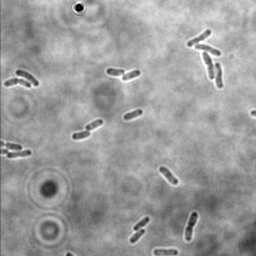Dividing: (184, 211, 199, 242), (3, 76, 32, 89), (6, 148, 33, 160)
Microcolony: (186, 29, 225, 89)
Rod: (14, 69, 39, 88), (158, 165, 179, 186), (132, 215, 150, 232), (128, 228, 146, 244), (85, 118, 104, 133), (121, 68, 141, 82), (122, 108, 143, 121), (152, 247, 179, 256), (105, 66, 125, 78), (70, 130, 93, 140)
